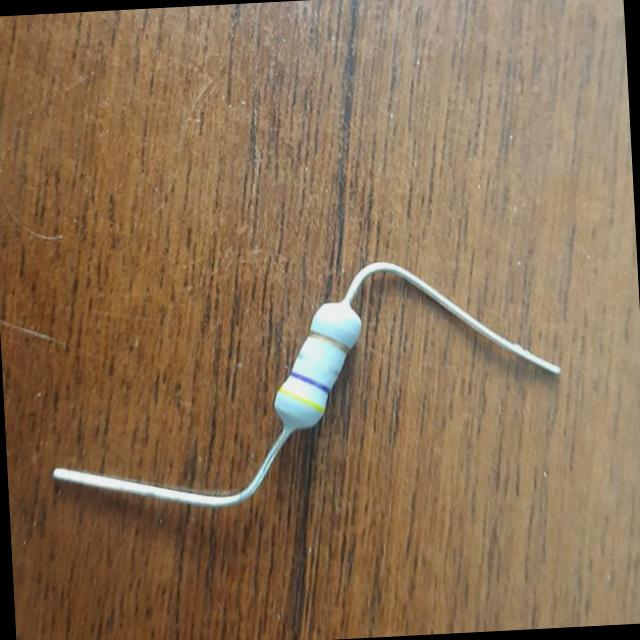Resistor: (275, 302, 360, 428)
gold: (310, 332, 353, 355)
purple: (290, 373, 334, 396)
silver: (296, 355, 346, 376), (299, 355, 343, 377)
yellow: (278, 388, 324, 413)
